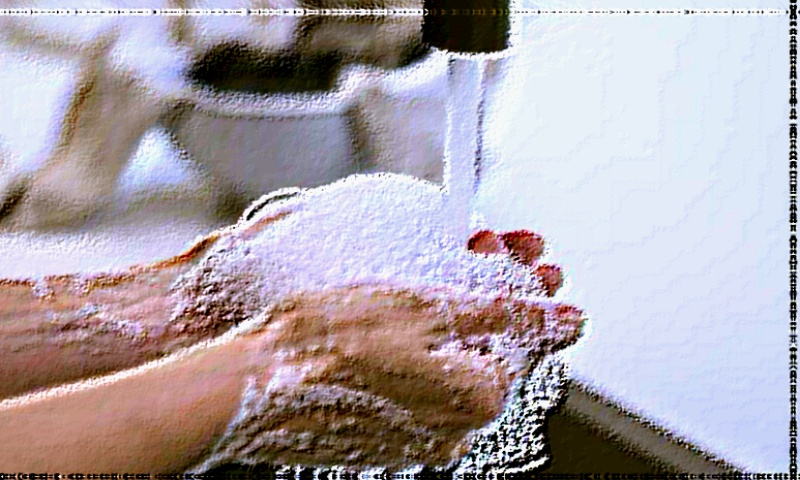washing hand: (239, 28, 649, 460)
